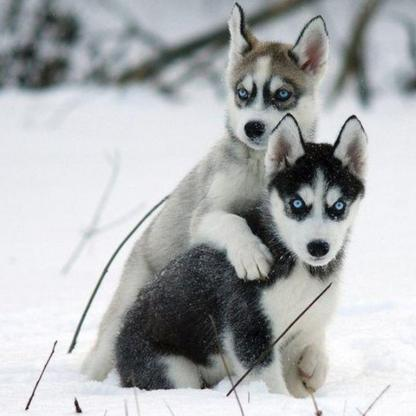dog: (75, 3, 331, 379), (99, 112, 370, 396)
